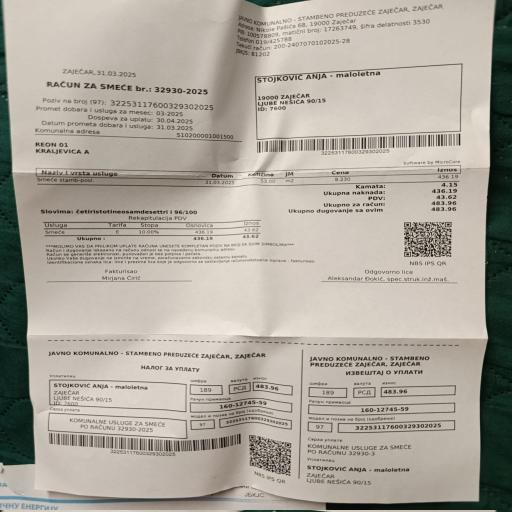racun_za_smece: (33, 165, 471, 208)
